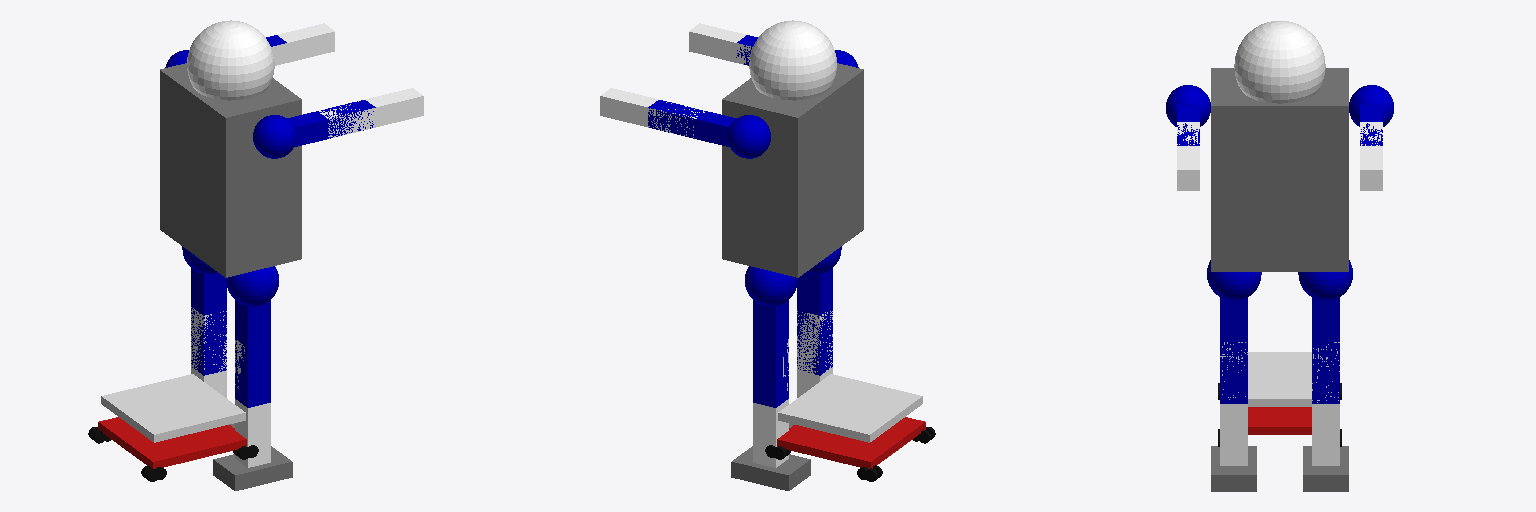
URDF robot description (humanoid):
<?xml version="1.0"?>
<robot name="humanoid">

  <!-- Base Link (Torso) -->
  <link name="base_link">
    <visual>
      <geometry>
        <box size="0.2 0.3 0.4"/>
      </geometry>
      <material name="grey">
        <color rgba="0.5 0.5 0.5 1"/>
      </material>
    </visual>
  </link>

  <!-- Head (1 DOF) -->
  <link name="head_link">
    <visual>
      <geometry>
        <sphere radius="0.1"/>
      </geometry>
      <material name="white">
        <color rgba="1 1 1 1"/>
      </material>
    </visual>
  </link>
  <joint name="head_pan_joint" type="revolute">
    <parent link="base_link"/>
    <child link="head_link"/>
    <origin xyz="0 0 0.25" rpy="0 0 0"/>
    <axis xyz="0 0 1"/>
    <limit lower="-1.57" upper="1.57" effort="10" velocity="1.0"/>
  </joint>

  <!-- Left Arm (3 DOF) -->
  <link name="left_shoulder_link">
    <visual>
      <geometry>
        <sphere radius="0.05"/>
      </geometry>
      <material name="blue">
        <color rgba="0 0 0.8 1"/>
      </material>
    </visual>
  </link>
  <joint name="left_shoulder_pan_joint" type="revolute">
    <parent link="base_link"/>
    <child link="left_shoulder_link"/>
    <origin xyz="0 0.2 0.15" rpy="0 0 0"/>
    <axis xyz="0 1 0"/>
    <limit lower="-1.57" upper="1.57" effort="10" velocity="1.0"/>
  </joint>

  <link name="left_upper_arm_link">
    <visual>
      <geometry>
        <box size="0.25 0.05 0.05"/>
      </geometry>
      <material name="blue"/>
    </visual>
  </link>
  <joint name="left_shoulder_pitch_joint" type="revolute">
    <parent link="left_shoulder_link"/>
    <child link="left_upper_arm_link"/>
    <origin xyz="0.125 0 0" rpy="0 0 0"/>
    <axis xyz="0 0 1"/>
    <limit lower="-1.57" upper="1.57" effort="10" velocity="1.0"/>
  </joint>

  <link name="left_lower_arm_link">
    <visual>
      <geometry>
        <box size="0.25 0.05 0.05"/>
      </geometry>
      <material name="white"/>
    </visual>
  </link>
  <joint name="left_elbow_pitch_joint" type="revolute">
    <parent link="left_upper_arm_link"/>
    <child link="left_lower_arm_link"/>
    <origin xyz="0.125 0 0" rpy="0 0 0"/>
    <axis xyz="0 0 1"/>
    <limit lower="0" upper="1.57" effort="10" velocity="1.0"/>
  </joint>

  <!-- Right Arm (3 DOF) -->
  <link name="right_shoulder_link">
    <visual>
      <geometry>
        <sphere radius="0.05"/>
      </geometry>
      <material name="blue"/>
    </visual>
  </link>
  <joint name="right_shoulder_pan_joint" type="revolute">
    <parent link="base_link"/>
    <child link="right_shoulder_link"/>
    <origin xyz="0 -0.2 0.15" rpy="0 0 0"/>
    <axis xyz="0 1 0"/>
    <limit lower="-1.57" upper="1.57" effort="10" velocity="1.0"/>
  </joint>

  <link name="right_upper_arm_link">
    <visual>
      <geometry>
        <box size="0.25 0.05 0.05"/>
      </geometry>
      <material name="blue"/>
    </visual>
  </link>
  <joint name="right_shoulder_pitch_joint" type="revolute">
    <parent link="right_shoulder_link"/>
    <child link="right_upper_arm_link"/>
    <origin xyz="0.125 0 0" rpy="0 0 0"/>
    <axis xyz="0 0 1"/>
    <limit lower="-1.57" upper="1.57" effort="10" velocity="1.0"/>
  </joint>

  <link name="right_lower_arm_link">
    <visual>
      <geometry>
        <box size="0.25 0.05 0.05"/>
      </geometry>
      <material name="white"/>
    </visual>
  </link>
  <joint name="right_elbow_pitch_joint" type="revolute">
    <parent link="right_upper_arm_link"/>
    <child link="right_lower_arm_link"/>
    <origin xyz="0.125 0 0" rpy="0 0 0"/>
    <axis xyz="0 0 1"/>
    <limit lower="0" upper="1.57" effort="10" velocity="1.0"/>
  </joint>

  <!-- Left Leg (4 DOF) -->
  <link name="left_hip_link">
    <visual>
      <geometry>
        <sphere radius="0.06"/>
      </geometry>
      <material name="blue"/>
    </visual>
  </link>
  <joint name="left_hip_pan_joint" type="revolute">
    <parent link="base_link"/>
    <child link="left_hip_link"/>
    <origin xyz="0 0.1 -0.25" rpy="0 0 0"/>
    <axis xyz="0 0 1"/>
    <limit lower="-0.785" upper="0.785" effort="10" velocity="1.0"/>
  </joint>

  <link name="left_thigh_link">
    <visual>
      <geometry>
        <box size="0.06 0.06 0.3"/>
      </geometry>
      <material name="blue"/>
    </visual>
  </link>
  <joint name="left_hip_pitch_joint" type="revolute">
    <parent link="left_hip_link"/>
    <child link="left_thigh_link"/>
    <origin xyz="0 0 -0.15" rpy="0 0 0"/>
    <axis xyz="0 1 0"/>
    <limit lower="-1.57" upper="1.57" effort="10" velocity="1.0"/>
  </joint>

  <link name="left_shin_link">
    <visual>
      <geometry>
        <box size="0.06 0.06 0.3"/>
      </geometry>
      <material name="white"/>
    </visual>
  </link>
  <joint name="left_knee_pitch_joint" type="revolute">
    <parent link="left_thigh_link"/>
    <child link="left_shin_link"/>
    <origin xyz="0 0 -0.15" rpy="0 0 0"/>
    <axis xyz="0 1 0"/>
    <limit lower="0" upper="1.57" effort="10" velocity="1.0"/>
  </joint>

  <link name="left_foot_link">
    <visual>
      <geometry>
        <box size="0.15 0.1 0.04"/>
      </geometry>
      <material name="grey"/>
    </visual>
  </link>
  <joint name="left_ankle_pitch_joint" type="revolute">
    <parent link="left_shin_link"/>
    <child link="left_foot_link"/>
    <origin xyz="0 0 -0.17" rpy="0 0 0"/>
    <axis xyz="0 1 0"/>
    <limit lower="-0.785" upper="0.785" effort="10" velocity="1.0"/>
  </joint>

  <!-- Right Leg (4 DOF) -->
  <link name="right_hip_link">
    <visual>
      <geometry>
        <sphere radius="0.06"/>
      </geometry>
      <material name="blue"/>
    </visual>
  </link>
  <joint name="right_hip_pan_joint" type="revolute">
    <parent link="base_link"/>
    <child link="right_hip_link"/>
    <origin xyz="0 -0.1 -0.25" rpy="0 0 0"/>
    <axis xyz="0 0 1"/>
    <limit lower="-0.785" upper="0.785" effort="10" velocity="1.0"/>
  </joint>

  <link name="right_thigh_link">
    <visual>
      <geometry>
        <box size="0.06 0.06 0.3"/>
      </geometry>
      <material name="blue"/>
    </visual>
  </link>
  <joint name="right_hip_pitch_joint" type="revolute">
    <parent link="right_hip_link"/>
    <child link="right_thigh_link"/>
    <origin xyz="0 0 -0.15" rpy="0 0 0"/>
    <axis xyz="0 1 0"/>
    <limit lower="-1.57" upper="1.57" effort="10" velocity="1.0"/>
  </joint>

  <link name="right_shin_link">
    <visual>
      <geometry>
        <box size="0.06 0.06 0.3"/>
      </geometry>
      <material name="white"/>
    </visual>
  </link>
  <joint name="right_knee_pitch_joint" type="revolute">
    <parent link="right_thigh_link"/>
    <child link="right_shin_link"/>
    <origin xyz="0 0 -0.15" rpy="0 0 0"/>
    <axis xyz="0 1 0"/>
    <limit lower="0" upper="1.57" effort="10" velocity="1.0"/>
  </joint>

  <link name="right_foot_link">
    <visual>
      <geometry>
        <box size="0.15 0.1 0.04"/>
      </geometry>
      <material name="grey"/>
    </visual>
  </link>
  <joint name="right_ankle_pitch_joint" type="revolute">
    <parent link="right_shin_link"/>
    <child link="right_foot_link"/>
    <origin xyz="0 0 -0.17" rpy="0 0 0"/>
    <axis xyz="0 1 0"/>
    <limit lower="-0.785" upper="0.785" effort="10" velocity="1.0"/>
  </joint>

  <!-- ========== CART SYSTEM (Tethered Support Platform) ========== -->

  <!-- Cart Base Platform (25cm x 25cm red platform) -->
  <link name="cart_base_link">
    <visual>
      <geometry>
        <box size="0.25 0.25 0.02"/>
      </geometry>
      <origin xyz="0 0 0.01" rpy="0 0 0"/>
      <material name="red">
        <color rgba="0.8 0.1 0.1 1"/>
      </material>
    </visual>
    <collision>
      <geometry>
        <box size="0.25 0.25 0.02"/>
      </geometry>
      <origin xyz="0 0 0.01" rpy="0 0 0"/>
    </collision>
    <inertial>
      <mass value="2.0"/>
      <origin xyz="0 0 0.01" rpy="0 0 0"/>
      <inertia ixx="0.0208" ixy="0.0" ixz="0.0" iyy="0.0208" iyz="0.0" izz="0.0417"/>
    </inertial>
  </link>

  <!-- Elastic String Connection (Prismatic Joint) -->
  <!-- Connects robot waist to cart, allows cart to slide back/forth -->
  <joint name="cart_tether_joint" type="prismatic">
    <parent link="base_link"/>
    <child link="cart_base_link"/>
    <!-- Position cart 10cm behind robot at waist level (base_link center = 0) -->
    <!-- Cart is lower than robot, so offset in Z to put it on ground level -->
    <origin xyz="-0.15 0 -0.65" rpy="0 0 0"/>
    <axis xyz="1 0 0"/>
    <!-- Allow cart to move: closer (robot stops suddenly) to farther (stretched) -->
    <!-- Limits: 5cm closer to 25cm farther from rest position -->
    <limit lower="-0.05" upper="0.25" effort="20" velocity="1.0"/>
    <dynamics damping="5.0" friction="0.5"/>
  </joint>

  <!-- Electronics Platform (upper deck) -->
  <link name="electronics_platform_link">
    <visual>
      <geometry>
        <box size="0.24 0.24 0.02"/>
      </geometry>
      <origin xyz="0 0 0.025" rpy="0 0 0"/>
      <material name="white">
        <color rgba="0.9 0.9 0.9 1"/>
      </material>
    </visual>
    <collision>
      <geometry>
        <box size="0.24 0.24 0.02"/>
      </geometry>
      <origin xyz="0 0 0.025" rpy="0 0 0"/>
    </collision>
    <inertial>
      <mass value="0.5"/>
      <origin xyz="0 0 0.025" rpy="0 0 0"/>
      <inertia ixx="0.0024" ixy="0.0" ixz="0.0" iyy="0.0024" iyz="0.0" izz="0.0048"/>
    </inertial>
  </link>

  <joint name="electronics_platform_joint" type="fixed">
    <parent link="cart_base_link"/>
    <child link="electronics_platform_link"/>
    <origin xyz="0 0 0.05" rpy="0 0 0"/>
  </joint>

  <!-- 16 Wheels: 4 corners × 4 wheels each -->
  <!-- Front Left Corner (4 wheels) -->
  <link name="wheel_fl_1">
    <visual>
      <geometry>
        <cylinder radius="0.015" length="0.01"/>
      </geometry>
      <origin xyz="0 0 0" rpy="1.5708 0 0"/>
      <material name="black">
        <color rgba="0.1 0.1 0.1 1"/>
      </material>
    </visual>
    <collision>
      <geometry>
        <cylinder radius="0.015" length="0.01"/>
      </geometry>
      <origin xyz="0 0 0" rpy="1.5708 0 0"/>
    </collision>
    <inertial>
      <mass value="0.05"/>
      <inertia ixx="0.00001" ixy="0" ixz="0" iyy="0.00001" iyz="0" izz="0.00001"/>
    </inertial>
  </link>
  <joint name="wheel_fl_1_joint" type="continuous">
    <parent link="cart_base_link"/>
    <child link="wheel_fl_1"/>
    <origin xyz="0.11 0.11 -0.01" rpy="0 0 0"/>
    <axis xyz="0 1 0"/>
    <dynamics damping="0.1" friction="0.1"/>
  </joint>

  <link name="wheel_fl_2">
    <visual>
      <geometry>
        <cylinder radius="0.015" length="0.01"/>
      </geometry>
      <origin xyz="0 0 0" rpy="1.5708 0 0"/>
      <material name="black"/>
    </visual>
    <collision>
      <geometry>
        <cylinder radius="0.015" length="0.01"/>
      </geometry>
      <origin xyz="0 0 0" rpy="1.5708 0 0"/>
    </collision>
    <inertial>
      <mass value="0.05"/>
      <inertia ixx="0.00001" ixy="0" ixz="0" iyy="0.00001" iyz="0" izz="0.00001"/>
    </inertial>
  </link>
  <joint name="wheel_fl_2_joint" type="continuous">
    <parent link="cart_base_link"/>
    <child link="wheel_fl_2"/>
    <origin xyz="0.13 0.11 -0.01" rpy="0 0 0"/>
    <axis xyz="0 1 0"/>
    <dynamics damping="0.1" friction="0.1"/>
  </joint>

  <link name="wheel_fl_3">
    <visual>
      <geometry>
        <cylinder radius="0.015" length="0.01"/>
      </geometry>
      <origin xyz="0 0 0" rpy="1.5708 0 0"/>
      <material name="black"/>
    </visual>
    <collision>
      <geometry>
        <cylinder radius="0.015" length="0.01"/>
      </geometry>
      <origin xyz="0 0 0" rpy="1.5708 0 0"/>
    </collision>
    <inertial>
      <mass value="0.05"/>
      <inertia ixx="0.00001" ixy="0" ixz="0" iyy="0.00001" iyz="0" izz="0.00001"/>
    </inertial>
  </link>
  <joint name="wheel_fl_3_joint" type="continuous">
    <parent link="cart_base_link"/>
    <child link="wheel_fl_3"/>
    <origin xyz="0.11 0.13 -0.01" rpy="0 0 0"/>
    <axis xyz="0 1 0"/>
    <dynamics damping="0.1" friction="0.1"/>
  </joint>

  <link name="wheel_fl_4">
    <visual>
      <geometry>
        <cylinder radius="0.015" length="0.01"/>
      </geometry>
      <origin xyz="0 0 0" rpy="1.5708 0 0"/>
      <material name="black"/>
    </visual>
    <collision>
      <geometry>
        <cylinder radius="0.015" length="0.01"/>
      </geometry>
      <origin xyz="0 0 0" rpy="1.5708 0 0"/>
    </collision>
    <inertial>
      <mass value="0.05"/>
      <inertia ixx="0.00001" ixy="0" ixz="0" iyy="0.00001" iyz="0" izz="0.00001"/>
    </inertial>
  </link>
  <joint name="wheel_fl_4_joint" type="continuous">
    <parent link="cart_base_link"/>
    <child link="wheel_fl_4"/>
    <origin xyz="0.13 0.13 -0.01" rpy="0 0 0"/>
    <axis xyz="0 1 0"/>
    <dynamics damping="0.1" friction="0.1"/>
  </joint>

  <!-- Front Right Corner (4 wheels) -->
  <link name="wheel_fr_1">
    <visual>
      <geometry>
        <cylinder radius="0.015" length="0.01"/>
      </geometry>
      <origin xyz="0 0 0" rpy="1.5708 0 0"/>
      <material name="black"/>
    </visual>
    <collision>
      <geometry>
        <cylinder radius="0.015" length="0.01"/>
      </geometry>
      <origin xyz="0 0 0" rpy="1.5708 0 0"/>
    </collision>
    <inertial>
      <mass value="0.05"/>
      <inertia ixx="0.00001" ixy="0" ixz="0" iyy="0.00001" iyz="0" izz="0.00001"/>
    </inertial>
  </link>
  <joint name="wheel_fr_1_joint" type="continuous">
    <parent link="cart_base_link"/>
    <child link="wheel_fr_1"/>
    <origin xyz="0.11 -0.11 -0.01" rpy="0 0 0"/>
    <axis xyz="0 1 0"/>
    <dynamics damping="0.1" friction="0.1"/>
  </joint>

  <link name="wheel_fr_2">
    <visual>
      <geometry>
        <cylinder radius="0.015" length="0.01"/>
      </geometry>
      <origin xyz="0 0 0" rpy="1.5708 0 0"/>
      <material name="black"/>
    </visual>
    <collision>
      <geometry>
        <cylinder radius="0.015" length="0.01"/>
      </geometry>
      <origin xyz="0 0 0" rpy="1.5708 0 0"/>
    </collision>
    <inertial>
      <mass value="0.05"/>
      <inertia ixx="0.00001" ixy="0" ixz="0" iyy="0.00001" iyz="0" izz="0.00001"/>
    </inertial>
  </link>
  <joint name="wheel_fr_2_joint" type="continuous">
    <parent link="cart_base_link"/>
    <child link="wheel_fr_2"/>
    <origin xyz="0.13 -0.11 -0.01" rpy="0 0 0"/>
    <axis xyz="0 1 0"/>
    <dynamics damping="0.1" friction="0.1"/>
  </joint>

  <link name="wheel_fr_3">
    <visual>
      <geometry>
        <cylinder radius="0.015" length="0.01"/>
      </geometry>
      <origin xyz="0 0 0" rpy="1.5708 0 0"/>
      <material name="black"/>
    </visual>
    <collision>
      <geometry>
        <cylinder radius="0.015" length="0.01"/>
      </geometry>
      <origin xyz="0 0 0" rpy="1.5708 0 0"/>
    </collision>
    <inertial>
      <mass value="0.05"/>
      <inertia ixx="0.00001" ixy="0" ixz="0" iyy="0.00001" iyz="0" izz="0.00001"/>
    </inertial>
  </link>
  <joint name="wheel_fr_3_joint" type="continuous">
    <parent link="cart_base_link"/>
    <child link="wheel_fr_3"/>
    <origin xyz="0.11 -0.13 -0.01" rpy="0 0 0"/>
    <axis xyz="0 1 0"/>
    <dynamics damping="0.1" friction="0.1"/>
  </joint>

  <link name="wheel_fr_4">
    <visual>
      <geometry>
        <cylinder radius="0.015" length="0.01"/>
      </geometry>
      <origin xyz="0 0 0" rpy="1.5708 0 0"/>
      <material name="black"/>
    </visual>
    <collision>
      <geometry>
        <cylinder radius="0.015" length="0.01"/>
      </geometry>
      <origin xyz="0 0 0" rpy="1.5708 0 0"/>
    </collision>
    <inertial>
      <mass value="0.05"/>
      <inertia ixx="0.00001" ixy="0" ixz="0" iyy="0.00001" iyz="0" izz="0.00001"/>
    </inertial>
  </link>
  <joint name="wheel_fr_4_joint" type="continuous">
    <parent link="cart_base_link"/>
    <child link="wheel_fr_4"/>
    <origin xyz="0.13 -0.13 -0.01" rpy="0 0 0"/>
    <axis xyz="0 1 0"/>
    <dynamics damping="0.1" friction="0.1"/>
  </joint>

  <!-- Back Left Corner (4 wheels) -->
  <link name="wheel_bl_1">
    <visual>
      <geometry>
        <cylinder radius="0.015" length="0.01"/>
      </geometry>
      <origin xyz="0 0 0" rpy="1.5708 0 0"/>
      <material name="black"/>
    </visual>
    <collision>
      <geometry>
        <cylinder radius="0.015" length="0.01"/>
      </geometry>
      <origin xyz="0 0 0" rpy="1.5708 0 0"/>
    </collision>
    <inertial>
      <mass value="0.05"/>
      <inertia ixx="0.00001" ixy="0" ixz="0" iyy="0.00001" iyz="0" izz="0.00001"/>
    </inertial>
  </link>
  <joint name="wheel_bl_1_joint" type="continuous">
    <parent link="cart_base_link"/>
    <child link="wheel_bl_1"/>
    <origin xyz="-0.11 0.11 -0.01" rpy="0 0 0"/>
    <axis xyz="0 1 0"/>
    <dynamics damping="0.1" friction="0.1"/>
  </joint>

  <link name="wheel_bl_2">
    <visual>
      <geometry>
        <cylinder radius="0.015" length="0.01"/>
      </geometry>
      <origin xyz="0 0 0" rpy="1.5708 0 0"/>
      <material name="black"/>
    </visual>
    <collision>
      <geometry>
        <cylinder radius="0.015" length="0.01"/>
      </geometry>
      <origin xyz="0 0 0" rpy="1.5708 0 0"/>
    </collision>
    <inertial>
      <mass value="0.05"/>
      <inertia ixx="0.00001" ixy="0" ixz="0" iyy="0.00001" iyz="0" izz="0.00001"/>
    </inertial>
  </link>
  <joint name="wheel_bl_2_joint" type="continuous">
    <parent link="cart_base_link"/>
    <child link="wheel_bl_2"/>
    <origin xyz="-0.13 0.11 -0.01" rpy="0 0 0"/>
    <axis xyz="0 1 0"/>
    <dynamics damping="0.1" friction="0.1"/>
  </joint>

  <link name="wheel_bl_3">
    <visual>
      <geometry>
        <cylinder radius="0.015" length="0.01"/>
      </geometry>
      <origin xyz="0 0 0" rpy="1.5708 0 0"/>
      <material name="black"/>
    </visual>
    <collision>
      <geometry>
        <cylinder radius="0.015" length="0.01"/>
      </geometry>
      <origin xyz="0 0 0" rpy="1.5708 0 0"/>
    </collision>
    <inertial>
      <mass value="0.05"/>
      <inertia ixx="0.00001" ixy="0" ixz="0" iyy="0.00001" iyz="0" izz="0.00001"/>
    </inertial>
  </link>
  <joint name="wheel_bl_3_joint" type="continuous">
    <parent link="cart_base_link"/>
    <child link="wheel_bl_3"/>
    <origin xyz="-0.11 0.13 -0.01" rpy="0 0 0"/>
    <axis xyz="0 1 0"/>
    <dynamics damping="0.1" friction="0.1"/>
  </joint>

  <link name="wheel_bl_4">
    <visual>
      <geometry>
        <cylinder radius="0.015" length="0.01"/>
      </geometry>
      <origin xyz="0 0 0" rpy="1.5708 0 0"/>
      <material name="black"/>
    </visual>
    <collision>
      <geometry>
        <cylinder radius="0.015" length="0.01"/>
      </geometry>
      <origin xyz="0 0 0" rpy="1.5708 0 0"/>
    </collision>
    <inertial>
      <mass value="0.05"/>
      <inertia ixx="0.00001" ixy="0" ixz="0" iyy="0.00001" iyz="0" izz="0.00001"/>
    </inertial>
  </link>
  <joint name="wheel_bl_4_joint" type="continuous">
    <parent link="cart_base_link"/>
    <child link="wheel_bl_4"/>
    <origin xyz="-0.13 0.13 -0.01" rpy="0 0 0"/>
    <axis xyz="0 1 0"/>
    <dynamics damping="0.1" friction="0.1"/>
  </joint>

  <!-- Back Right Corner (4 wheels) -->
  <link name="wheel_br_1">
    <visual>
      <geometry>
        <cylinder radius="0.015" length="0.01"/>
      </geometry>
      <origin xyz="0 0 0" rpy="1.5708 0 0"/>
      <material name="black"/>
    </visual>
    <collision>
      <geometry>
        <cylinder radius="0.015" length="0.01"/>
      </geometry>
      <origin xyz="0 0 0" rpy="1.5708 0 0"/>
    </collision>
    <inertial>
      <mass value="0.05"/>
      <inertia ixx="0.00001" ixy="0" ixz="0" iyy="0.00001" iyz="0" izz="0.00001"/>
    </inertial>
  </link>
  <joint name="wheel_br_1_joint" type="continuous">
    <parent link="cart_base_link"/>
    <child link="wheel_br_1"/>
    <origin xyz="-0.11 -0.11 -0.01" rpy="0 0 0"/>
    <axis xyz="0 1 0"/>
    <dynamics damping="0.1" friction="0.1"/>
  </joint>

  <link name="wheel_br_2">
    <visual>
      <geometry>
        <cylinder radius="0.015" length="0.01"/>
      </geometry>
      <origin xyz="0 0 0" rpy="1.5708 0 0"/>
      <material name="black"/>
    </visual>
    <collision>
      <geometry>
        <cylinder radius="0.015" length="0.01"/>
      </geometry>
      <origin xyz="0 0 0" rpy="1.5708 0 0"/>
    </collision>
    <inertial>
      <mass value="0.05"/>
      <inertia ixx="0.00001" ixy="0" ixz="0" iyy="0.00001" iyz="0" izz="0.00001"/>
    </inertial>
  </link>
  <joint name="wheel_br_2_joint" type="continuous">
    <parent link="cart_base_link"/>
    <child link="wheel_br_2"/>
    <origin xyz="-0.13 -0.11 -0.01" rpy="0 0 0"/>
    <axis xyz="0 1 0"/>
    <dynamics damping="0.1" friction="0.1"/>
  </joint>

  <link name="wheel_br_3">
    <visual>
      <geometry>
        <cylinder radius="0.015" length="0.01"/>
      </geometry>
      <origin xyz="0 0 0" rpy="1.5708 0 0"/>
      <material name="black"/>
    </visual>
    <collision>
      <geometry>
        <cylinder radius="0.015" length="0.01"/>
      </geometry>
      <origin xyz="0 0 0" rpy="1.5708 0 0"/>
    </collision>
    <inertial>
      <mass value="0.05"/>
      <inertia ixx="0.00001" ixy="0" ixz="0" iyy="0.00001" iyz="0" izz="0.00001"/>
    </inertial>
  </link>
  <joint name="wheel_br_3_joint" type="continuous">
    <parent link="cart_base_link"/>
    <child link="wheel_br_3"/>
    <origin xyz="-0.11 -0.13 -0.01" rpy="0 0 0"/>
    <axis xyz="0 1 0"/>
    <dynamics damping="0.1" friction="0.1"/>
  </joint>

  <link name="wheel_br_4">
    <visual>
      <geometry>
        <cylinder radius="0.015" length="0.01"/>
      </geometry>
      <origin xyz="0 0 0" rpy="1.5708 0 0"/>
      <material name="black"/>
    </visual>
    <collision>
      <geometry>
        <cylinder radius="0.015" length="0.01"/>
      </geometry>
      <origin xyz="0 0 0" rpy="1.5708 0 0"/>
    </collision>
    <inertial>
      <mass value="0.05"/>
      <inertia ixx="0.00001" ixy="0" ixz="0" iyy="0.00001" iyz="0" izz="0.00001"/>
    </inertial>
  </link>
  <joint name="wheel_br_4_joint" type="continuous">
    <parent link="cart_base_link"/>
    <child link="wheel_br_4"/>
    <origin xyz="-0.13 -0.13 -0.01" rpy="0 0 0"/>
    <axis xyz="0 1 0"/>
    <dynamics damping="0.1" friction="0.1"/>
  </joint>

</robot>

--- What the picture shows (computed from the rendered views, not written in the file) ---
The picture shows the robot from 3 angles, left to right: view 1: azimuth 30°, elevation 25°; view 2: azimuth 150°, elevation 25°; view 3: azimuth 270°, elevation 25°; orthographic projection.
Model humanoid with 34 links and 33 joints (15 revolute, 16 continuous, 1 prismatic, 1 fixed), rooted at base_link, posed all joints at 0.
Visible links, largest first — view 1: base_link, electronics_platform_link, head_link, cart_base_link, right_thigh_link, left_thigh_link, right_lower_arm_link, right_foot_link, right_upper_arm_link, left_lower_arm_link, right_shin_link, right_hip_link (+2 smaller); view 2: base_link, electronics_platform_link, head_link, cart_base_link, left_thigh_link, right_thigh_link, left_upper_arm_link, left_foot_link, left_lower_arm_link, left_shin_link, right_lower_arm_link, left_hip_link (+2 smaller); view 3: base_link, head_link, electronics_platform_link, right_thigh_link, left_thigh_link, left_shin_link, right_shin_link, cart_base_link, left_foot_link, right_foot_link, left_lower_arm_link, left_hip_link (+6 smaller).
Boxes of the visible links, x1,y1,x2,y2 form: base_link: (160, 63, 301, 277); electronics_platform_link: (101, 374, 245, 442); head_link: (187, 20, 274, 100); cart_base_link: (98, 417, 246, 468); right_thigh_link: (235, 300, 270, 407); left_thigh_link: (191, 268, 226, 375); right_lower_arm_link: (319, 88, 423, 138); right_foot_link: (213, 446, 292, 490); right_upper_arm_link: (287, 100, 375, 146); left_lower_arm_link: (271, 23, 334, 65); right_shin_link: (235, 340, 270, 467); right_hip_link: (226, 266, 278, 306); base_link: (722, 63, 863, 277); electronics_platform_link: (778, 374, 922, 442); head_link: (749, 20, 836, 100); cart_base_link: (777, 417, 925, 468); left_thigh_link: (753, 300, 788, 407); right_thigh_link: (797, 268, 832, 375); left_upper_arm_link: (648, 100, 736, 146); left_foot_link: (731, 446, 810, 490); left_lower_arm_link: (600, 88, 704, 137); left_shin_link: (753, 339, 788, 467); right_lower_arm_link: (689, 23, 752, 65); left_hip_link: (745, 266, 797, 306); base_link: (1211, 68, 1348, 271); head_link: (1234, 21, 1325, 103); electronics_platform_link: (1248, 352, 1311, 406); right_thigh_link: (1220, 297, 1247, 403); left_thigh_link: (1312, 297, 1339, 403); left_shin_link: (1312, 342, 1339, 465); right_shin_link: (1220, 342, 1247, 465); cart_base_link: (1248, 407, 1311, 434); left_foot_link: (1303, 446, 1348, 491); right_foot_link: (1211, 446, 1256, 491); left_lower_arm_link: (1360, 122, 1382, 190); left_hip_link: (1298, 260, 1352, 300).
Bounding box of the posed robot: 0.67 × 0.5 × 1.09 m (x, y, z).
Geometry: primitives only (box / cylinder / sphere), no mesh files.